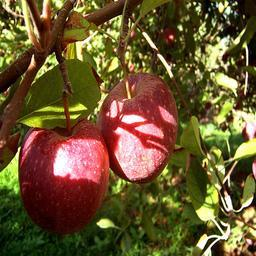apple: (17, 119, 109, 234), (96, 74, 179, 186)
